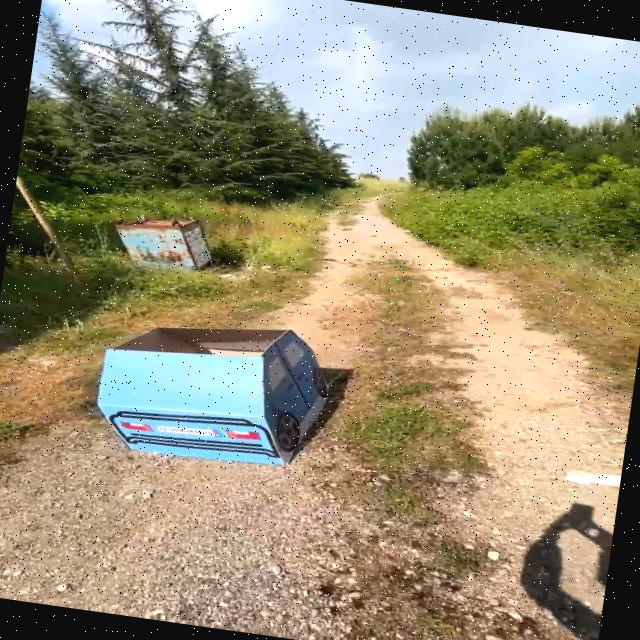blue_car: (70, 282, 365, 492)
